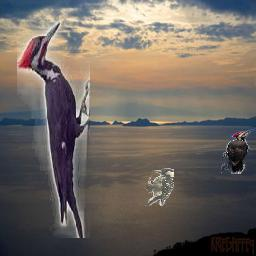Woodpecker: (18, 22, 91, 239), (220, 128, 256, 174), (144, 168, 174, 206)
